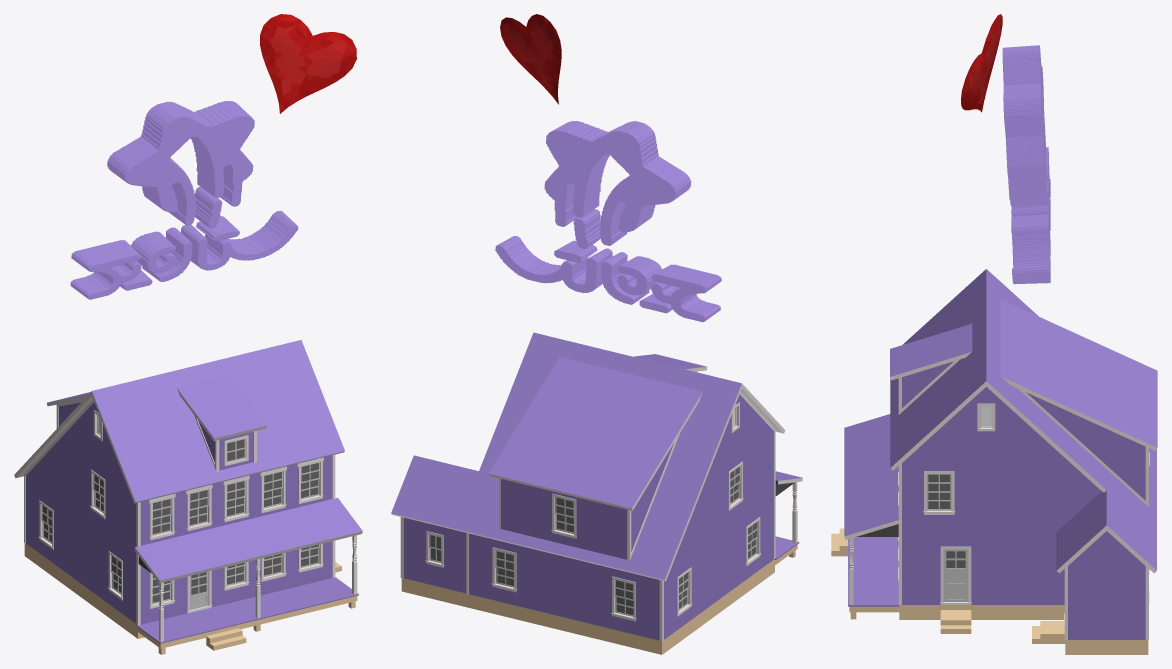
The model's file is setare1.glb.
3 renders of one model, left to right at view 1: azimuth 30°, elevation 25°; view 2: azimuth 150°, elevation 25°; view 3: azimuth 270°, elevation 25°, orthographic. The views are drawn at different scales.
Parts seen in each view (by area): view 1: Layer0_001, Logotype_Pb_Color_Size_4, Line002, Component#1_007, Component#1_001, Component#1_005, Component#1_017, Component#1_013, Component#3_001, Component#6_001, Component#2_001, Component#2_003 (+5 smaller); view 2: Layer0_001, Logotype_Pb_Color_Size_4, Line002, Component#2_011, Component#2_007, Component#2_009, Component#2_001, Component#2_003, Component#2_005, Component#5_001; view 3: Layer0_001, Logotype_Pb_Color_Size_4, Component#4_003, Line002, Component#2_013, Component#7_002.
Part boxes in pixels (x1=…): Layer0_001: x1=14, y1=340, x2=362, y2=654; Logotype_Pb_Color_Size_4: x1=70, y1=101, x2=298, y2=299; Line002: x1=260, y1=14, x2=356, y2=113; Component#1_007: x1=223, y1=475, x2=249, y2=522; Component#1_001: x1=186, y1=484, x2=212, y2=531; Component#1_005: x1=149, y1=493, x2=175, y2=540; Component#1_017: x1=260, y1=466, x2=286, y2=512; Component#1_013: x1=297, y1=457, x2=323, y2=503; Component#3_001: x1=186, y1=570, x2=212, y2=613; Component#6_001: x1=224, y1=435, x2=248, y2=466; Component#2_001: x1=38, y1=500, x2=53, y2=549; Component#2_003: x1=90, y1=469, x2=105, y2=518; Layer0_001: x1=391, y1=332, x2=802, y2=654; Logotype_Pb_Color_Size_4: x1=495, y1=121, x2=721, y2=322; Line002: x1=500, y1=14, x2=561, y2=104; Component#2_011: x1=551, y1=493, x2=576, y2=538; Component#2_007: x1=491, y1=547, x2=516, y2=592; Component#2_009: x1=611, y1=576, x2=636, y2=621; Component#2_001: x1=677, y1=567, x2=692, y2=616; Component#2_003: x1=728, y1=461, x2=743, y2=510; Component#2_005: x1=746, y1=517, x2=761, y2=566; Component#5_001: x1=425, y1=531, x2=444, y2=567; Layer0_001: x1=831, y1=269, x2=1157, y2=654; Logotype_Pb_Color_Size_4: x1=1002, y1=45, x2=1050, y2=284; Component#4_003: x1=940, y1=546, x2=971, y2=604; Line002: x1=961, y1=14, x2=1002, y2=112; Component#2_013: x1=923, y1=471, x2=955, y2=514; Component#7_002: x1=977, y1=403, x2=995, y2=431.
Bounding box in the file's own units: 12.8 × 24.3 × 11.97.
14 materials, 3 textured.
